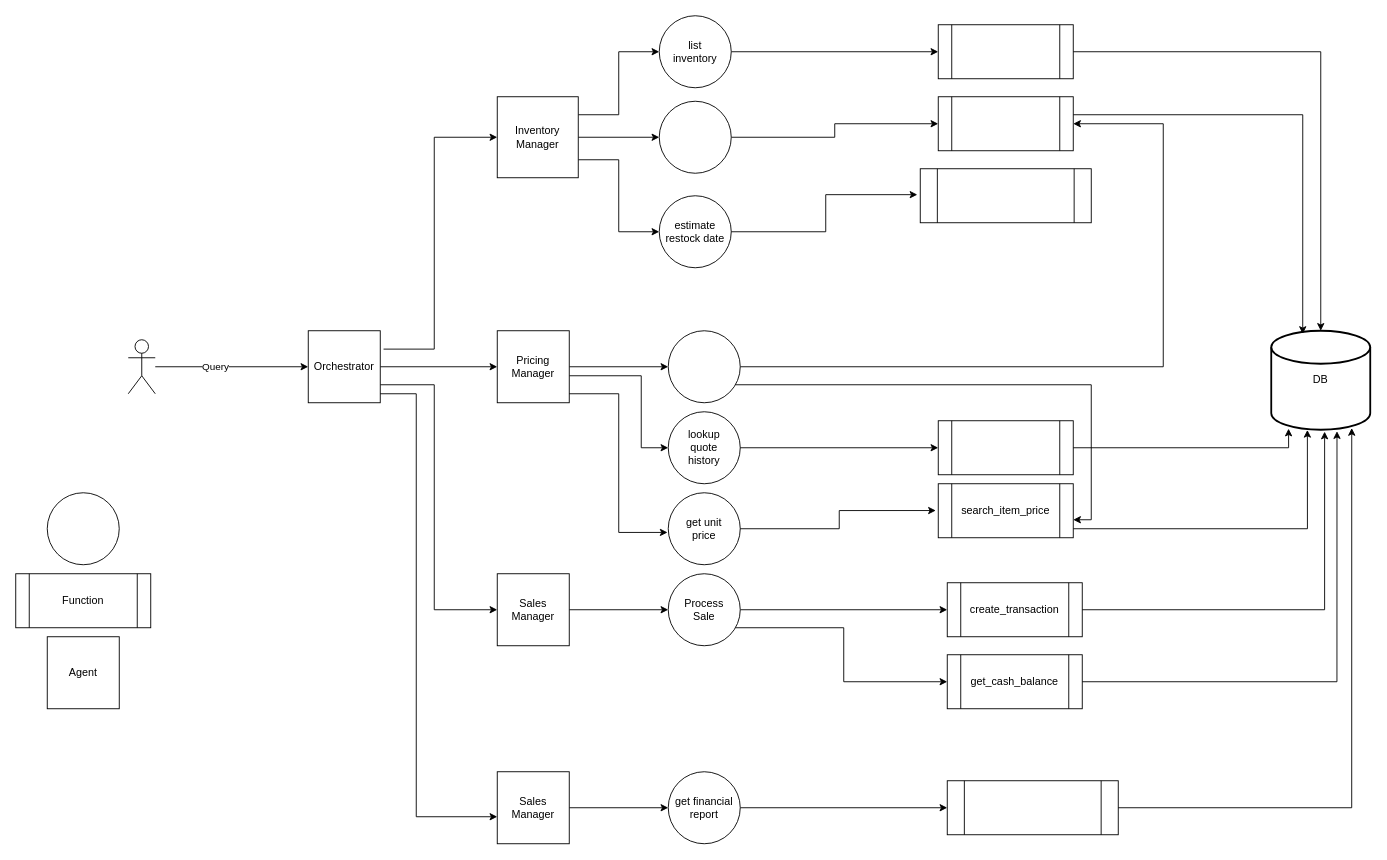
Some shapes in this 1387 by 860 pixel diagram are drawn without their labels. Each missing label, with the centre of its shape:
"check item stock" goes at point 694,136.
"Customer" goes at point 141,366.
"generate quote" goes at point 703,366.
"generate_financial_report" goes at point 1032,807.
"get_all_inventory" goes at point 1005,51.
"get_stock_level" goes at point 1005,123.
"get_supplier_delivery_date" goes at point 1005,195.
"search_quote_history" goes at point 1005,447.
"Tool" goes at point 82,528.
